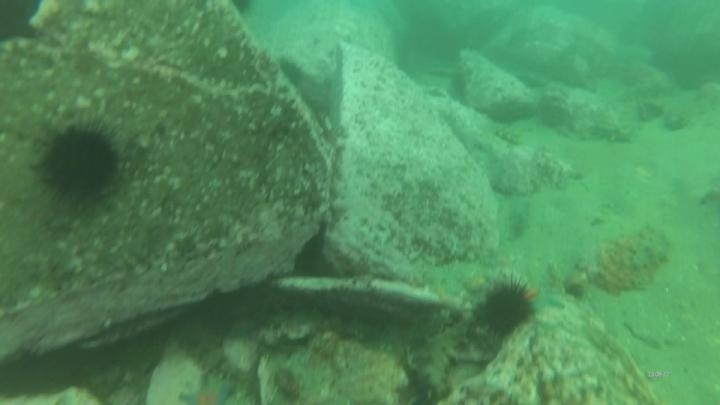echinus: (36, 120, 123, 207), (474, 276, 537, 339)
holothurian: (406, 318, 472, 402)
starfish: (518, 264, 567, 317), (178, 375, 237, 404)
